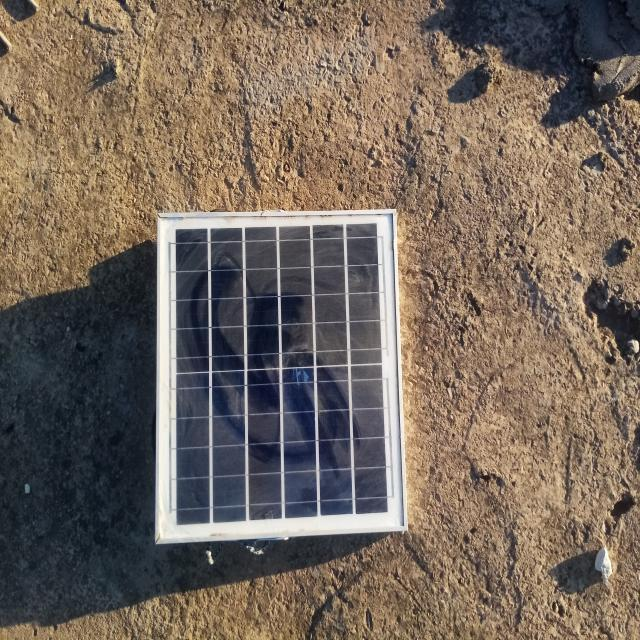faulty: (157, 209, 409, 544)
